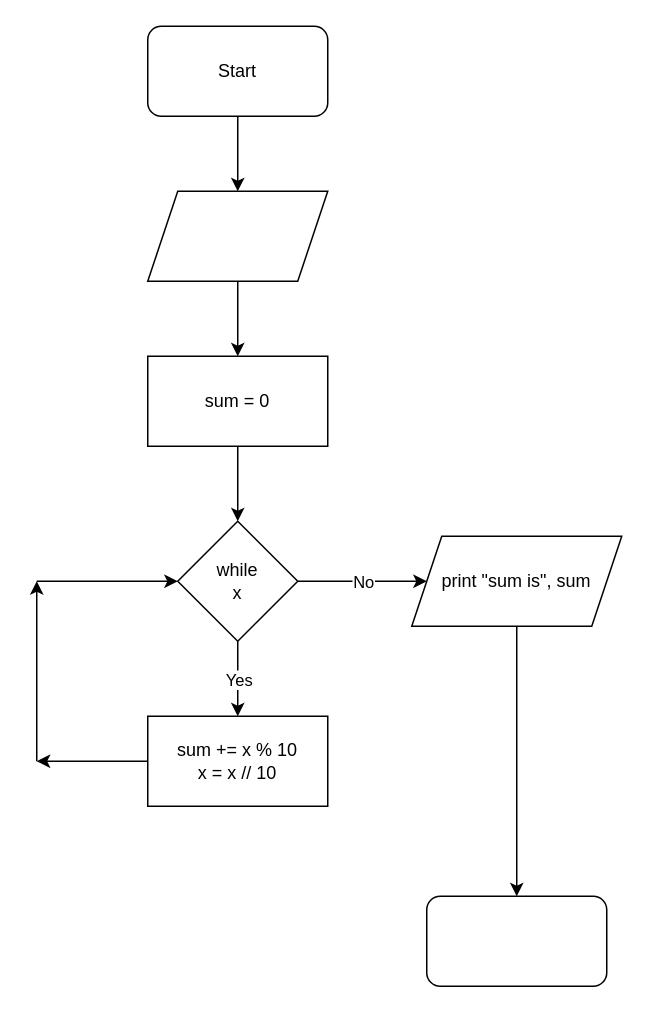
This 648x1013 diagram has some shape labels left out. Each missing label, with the centre of its shape:
"input int x" belongs at (x=237, y=235).
"Stop" belongs at (x=516, y=940).
